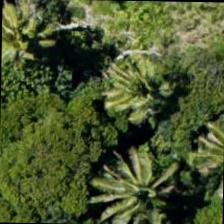Kelapa_Sawit: (96, 46, 188, 138), (95, 143, 187, 223), (1, 0, 58, 73)
